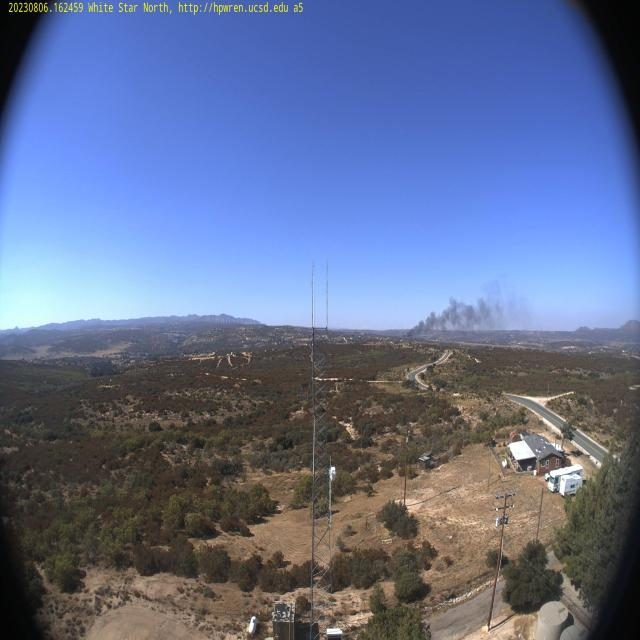smoke: (482, 275, 542, 329), (403, 294, 459, 339), (461, 292, 496, 330)
